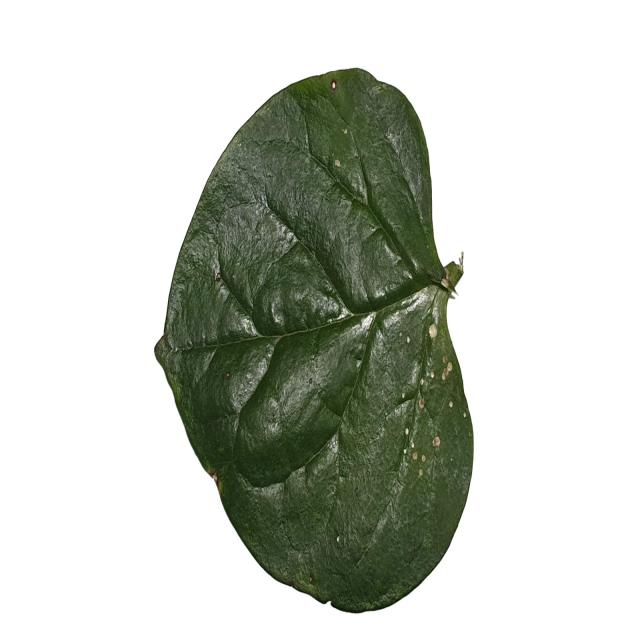Medicinal-Basale: (152, 65, 477, 612)
